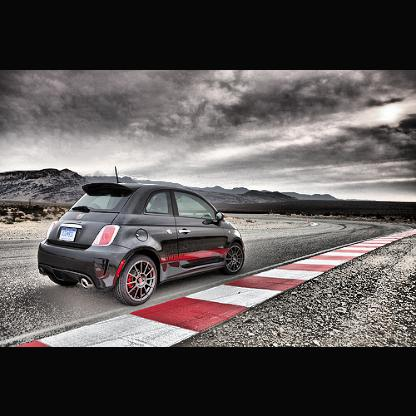FIAT 500 Abarth 2012: (36, 166, 249, 309)
